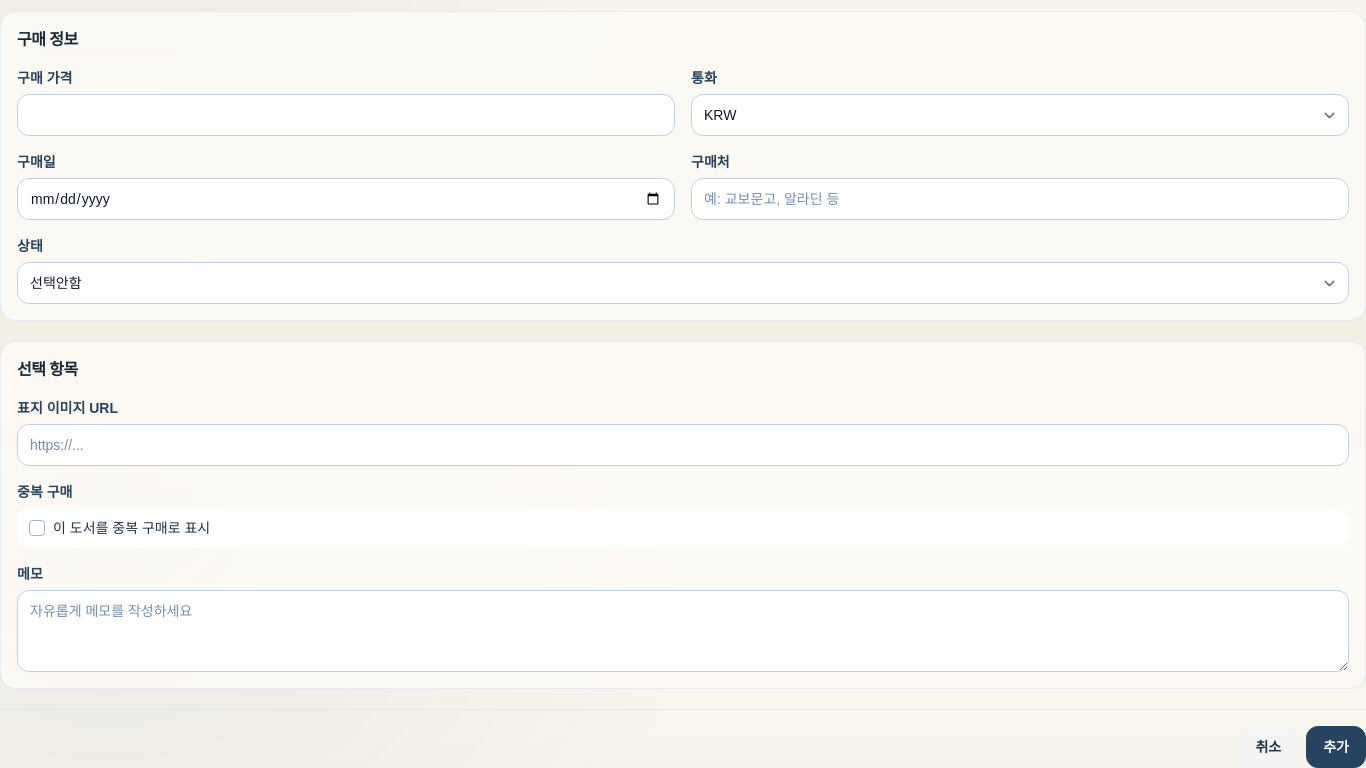
Scenario: BookForm › 유효성 검증 › 도서명이 비어있으면 에러 메시지를 표시해야 함
(page scrolled)
Click the button "추가" at [1336, 747], box [1306,726,1365,767]
(page scrolled)
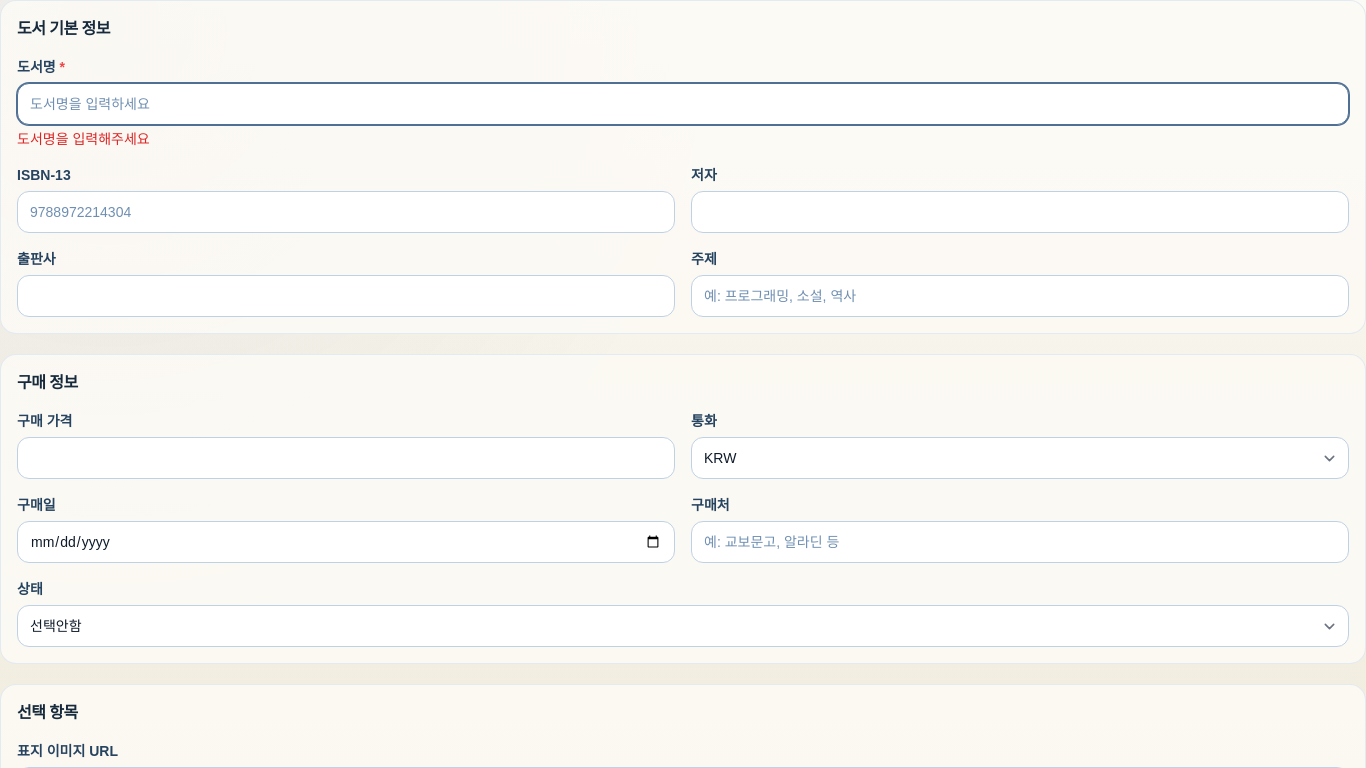
Expected: the text "도서명을 입력해주세요" is shown, [17,131,150,147]
